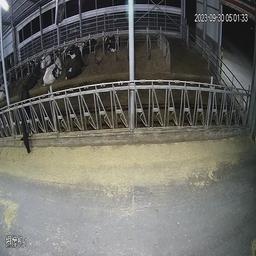cow: (9, 72, 36, 164), (39, 46, 63, 91), (60, 41, 85, 83), (101, 26, 120, 57), (82, 33, 99, 58)
